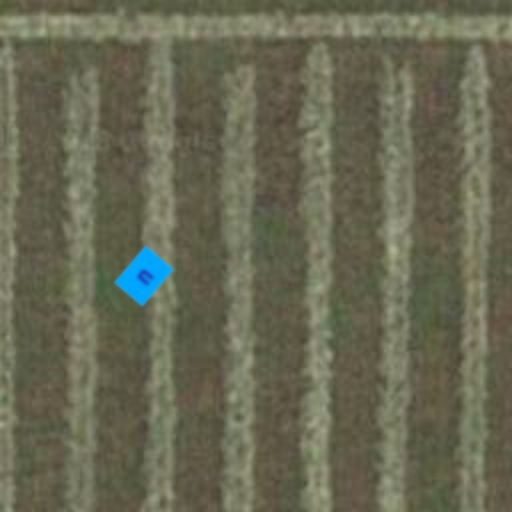rectangle: (108, 240, 180, 312)
